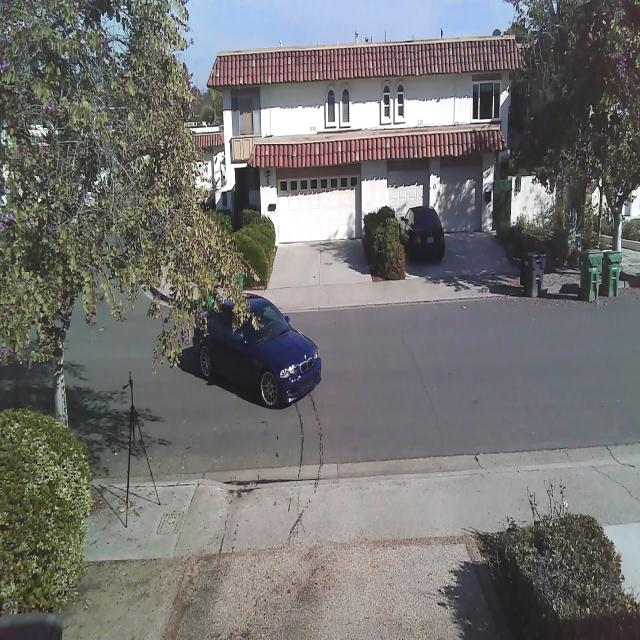Carbeetle: (180, 282, 322, 423)
Civilian: (397, 205, 445, 264)
